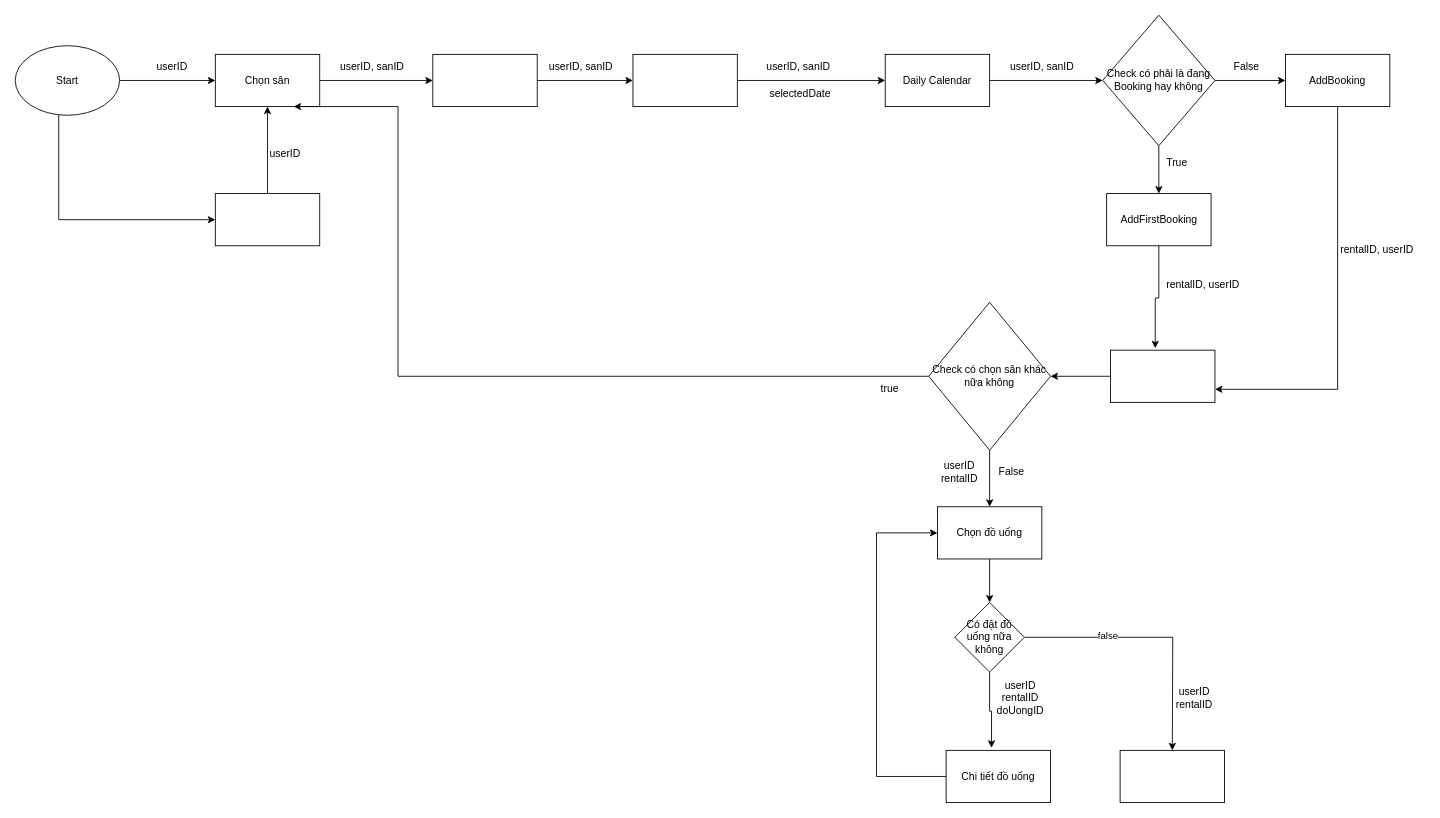
Image size: 1440x818. Some labels were removed from this diagram. Each missing label, with the box of its shape:
Chi tiết sân: (432, 54, 537, 107)
Login: (214, 193, 320, 246)
Monthly Calendar: (632, 54, 737, 107)
Màn hình Checkout: (1119, 750, 1225, 803)
Màn hình thành công: (1110, 349, 1215, 402)
